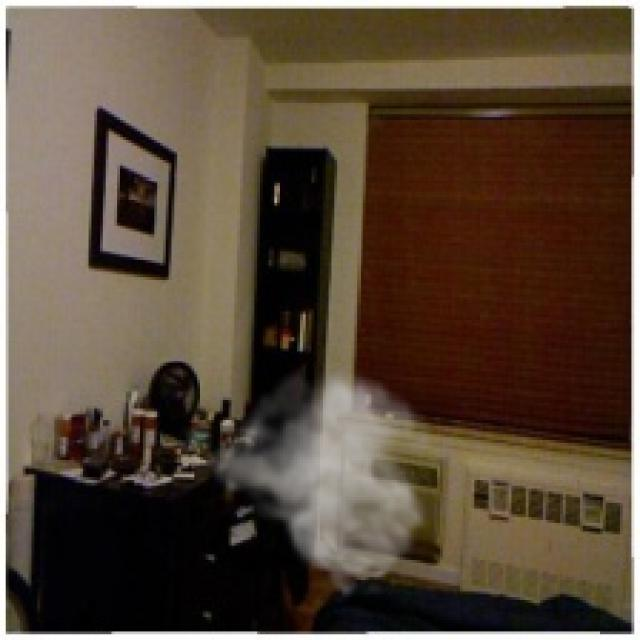smoke: (197, 363, 449, 600)
